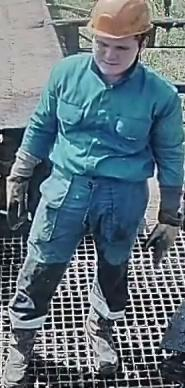gloves: (142, 213, 184, 265), (4, 176, 32, 234)
helmet: (85, 1, 156, 41)
vest: (32, 66, 185, 212)
